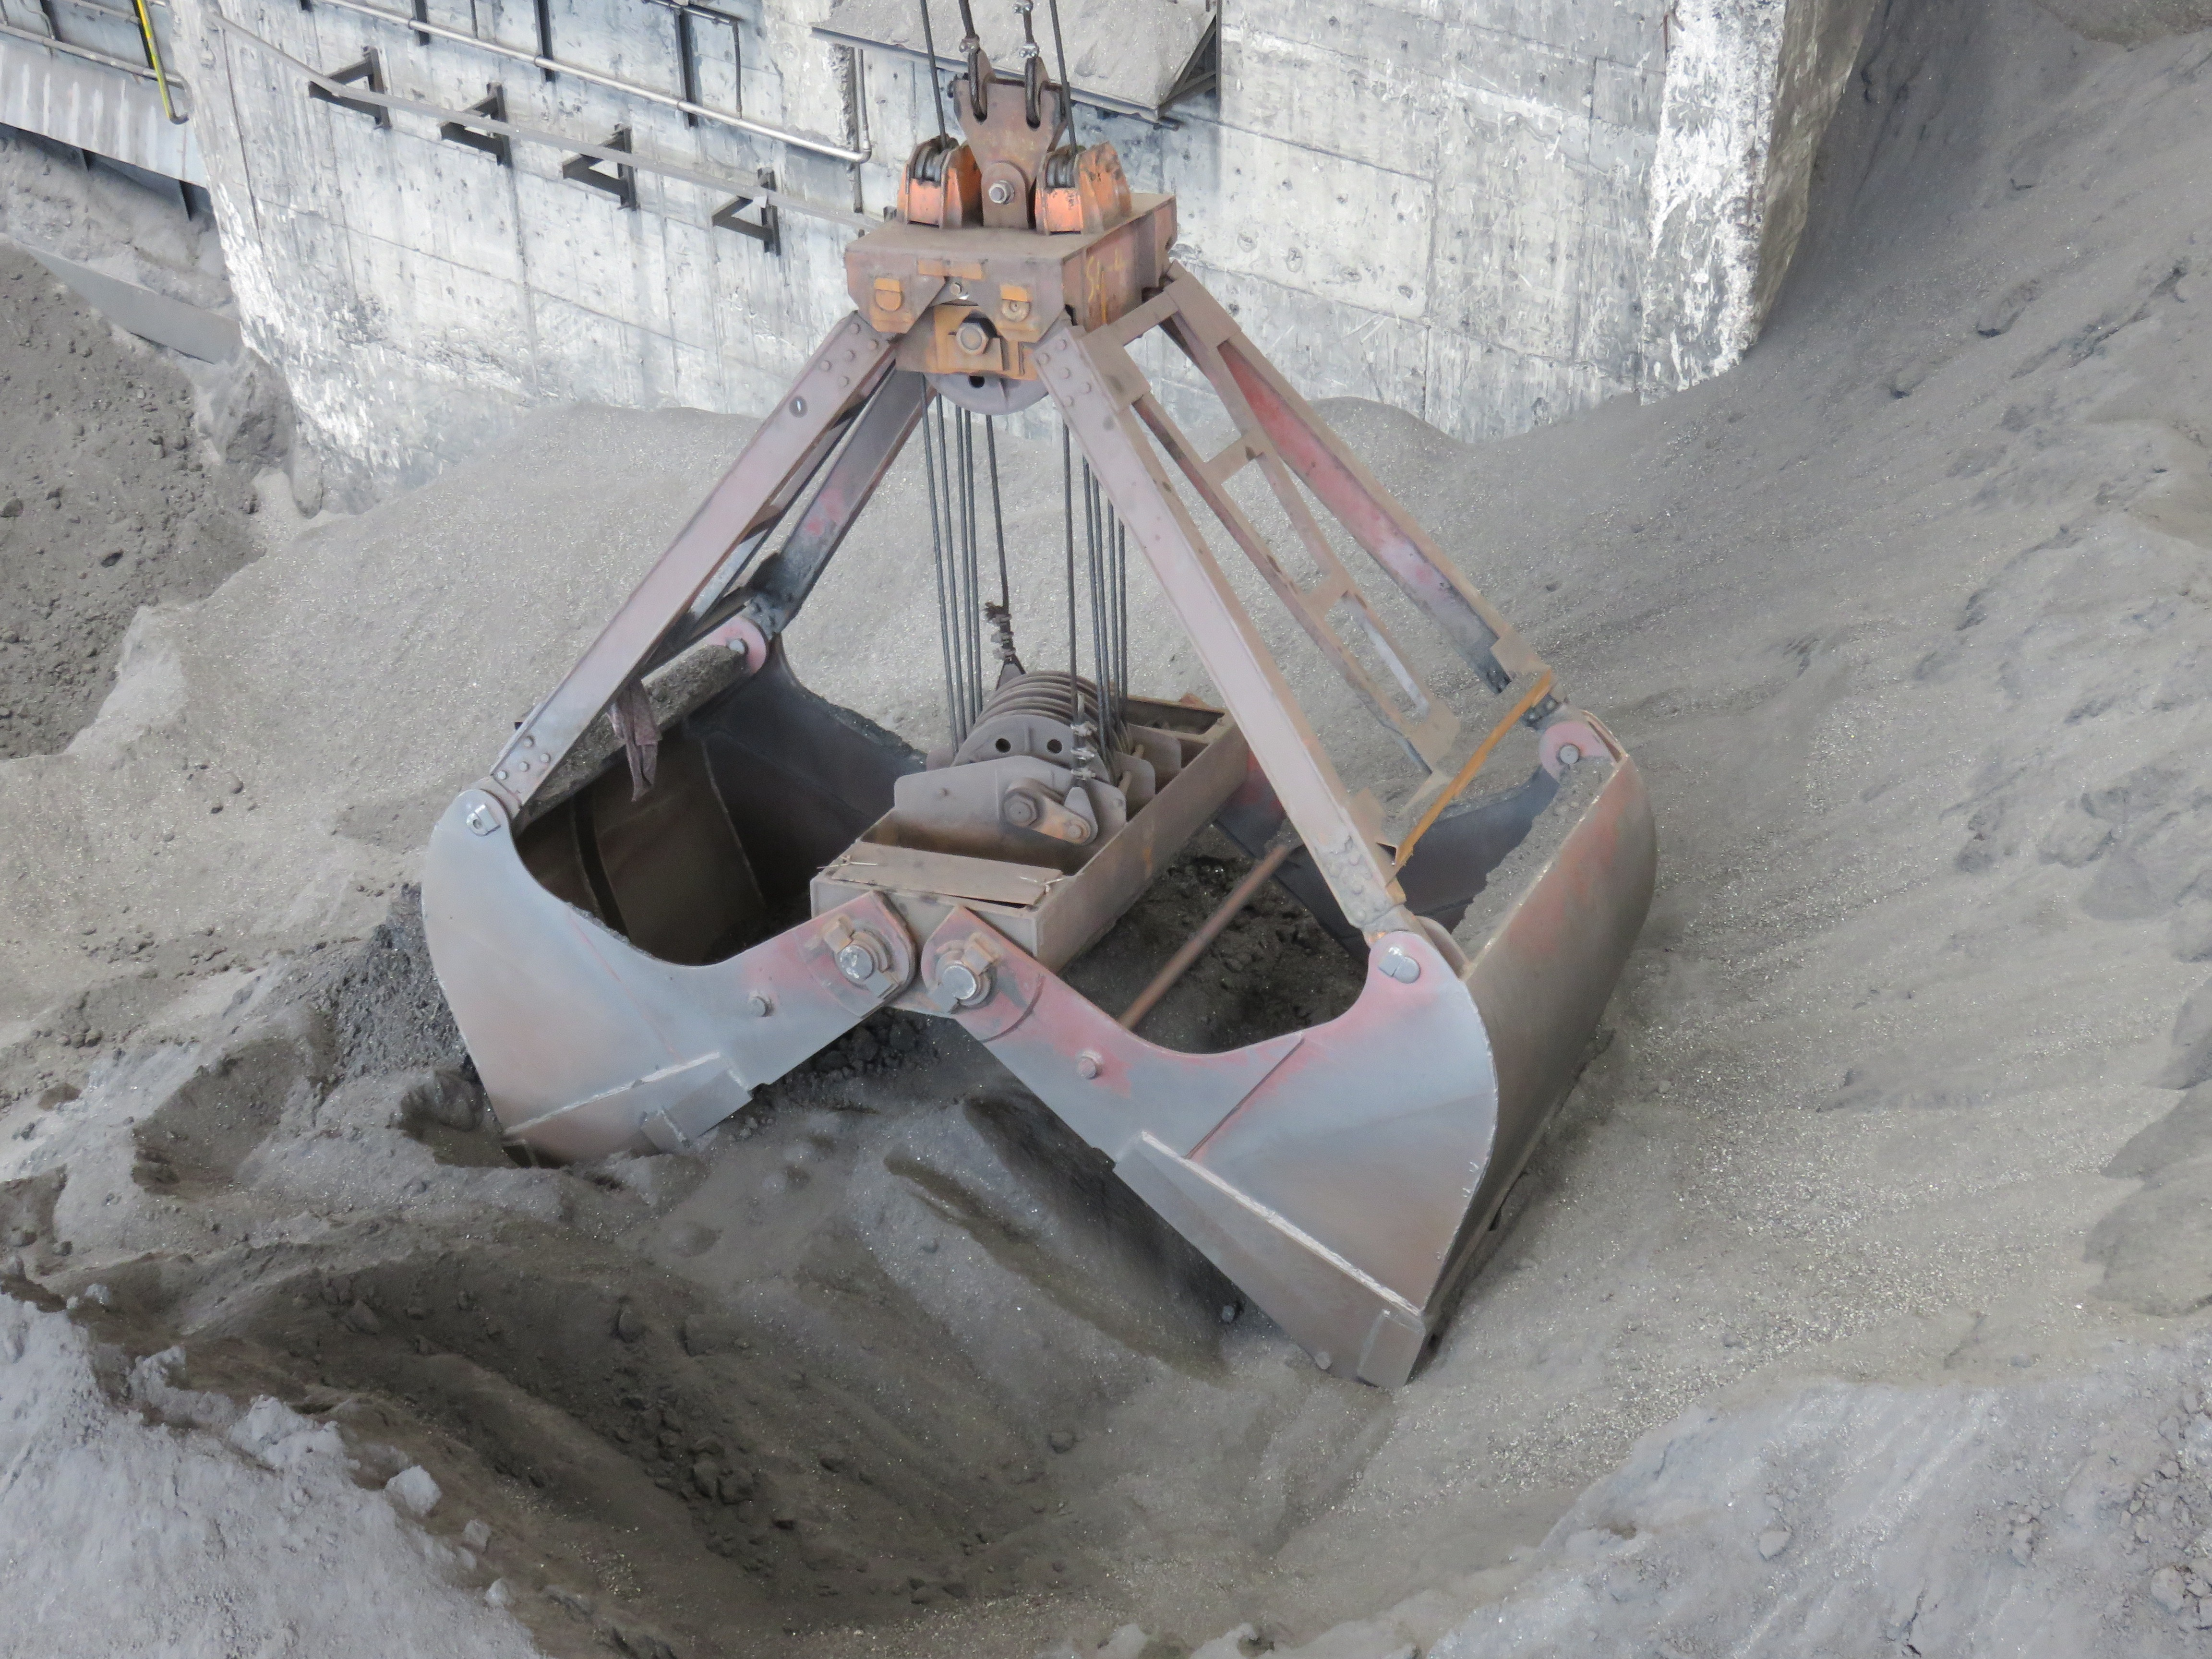grab: (406, 51, 1665, 1394)
